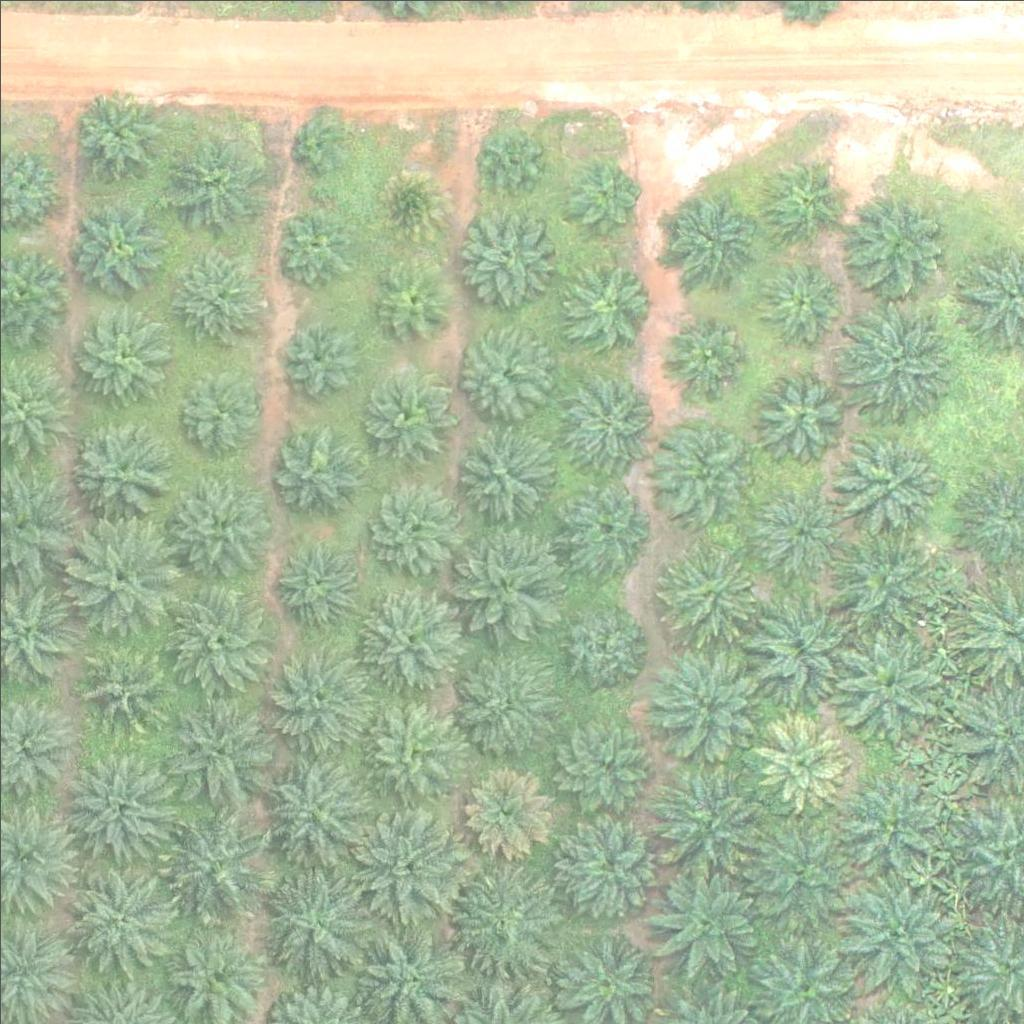Kelapa_Sawit: (740, 809, 853, 923), (648, 864, 761, 978), (651, 641, 764, 755), (350, 807, 463, 920), (57, 857, 170, 970), (258, 754, 371, 867), (836, 302, 949, 415), (650, 767, 763, 880), (836, 876, 948, 990), (828, 626, 940, 740), (743, 592, 855, 706), (445, 862, 557, 975), (263, 868, 375, 981), (162, 808, 274, 921), (64, 521, 176, 634), (165, 582, 277, 695), (65, 754, 177, 867), (161, 695, 273, 808), (443, 519, 555, 632), (69, 418, 169, 519), (70, 302, 170, 403), (166, 474, 266, 575), (269, 652, 369, 753), (358, 701, 458, 802), (834, 526, 934, 627), (832, 423, 932, 524), (551, 715, 651, 816), (449, 655, 549, 756), (656, 187, 756, 288), (843, 201, 943, 302), (559, 816, 659, 916), (67, 86, 167, 186), (161, 136, 261, 236), (359, 590, 459, 690), (361, 479, 461, 579), (845, 776, 945, 876), (657, 540, 757, 640), (653, 408, 753, 508), (451, 322, 551, 422), (455, 204, 555, 304), (78, 644, 166, 733), (758, 157, 846, 246), (360, 371, 448, 459), (463, 767, 551, 855), (760, 488, 848, 576), (758, 371, 846, 459), (457, 431, 545, 519), (656, 310, 744, 398), (755, 259, 843, 347), (70, 202, 157, 290), (176, 371, 263, 459), (174, 259, 261, 347), (277, 541, 364, 629), (271, 422, 358, 510), (757, 722, 844, 810), (556, 600, 643, 688), (555, 482, 642, 570), (564, 376, 651, 464), (558, 257, 645, 345), (373, 258, 448, 334), (283, 319, 358, 395), (276, 210, 351, 286), (372, 169, 447, 245), (474, 120, 549, 196), (564, 162, 639, 237), (287, 110, 349, 173)
